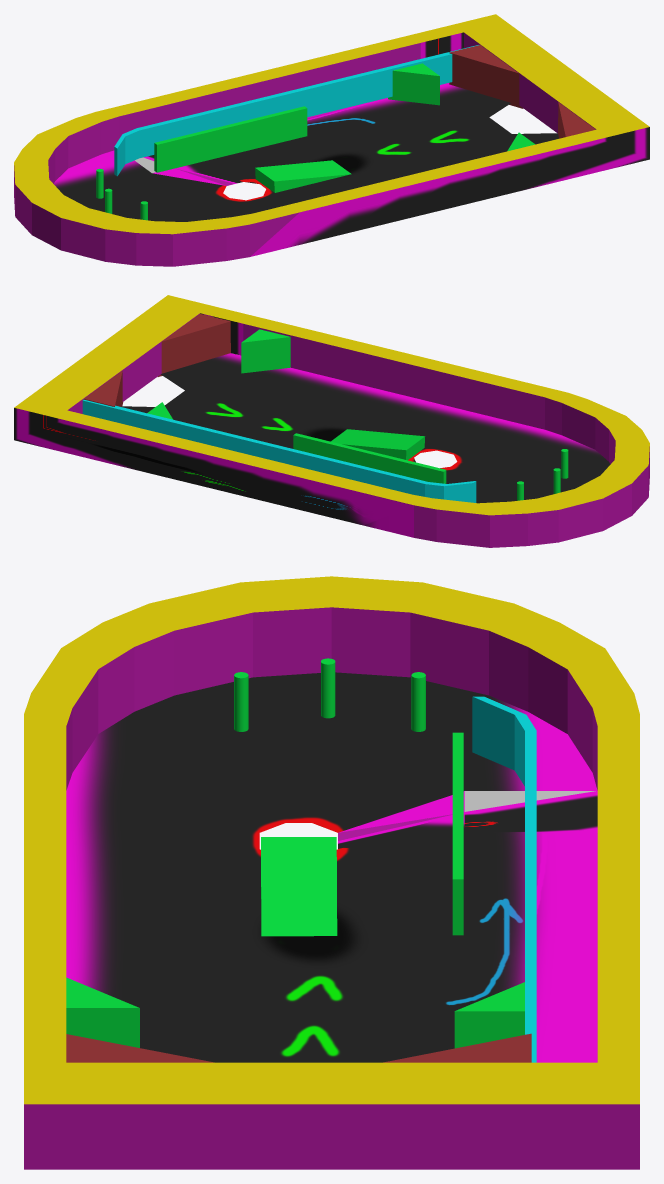
File: FlipperBoard5.fbx
The picture shows the model from 3 angles, top to bottom: view 1: azimuth 30°, elevation 25°; view 2: azimuth 150°, elevation 25°; view 3: azimuth 270°, elevation 25°; orthographic projection. The views are drawn at different scales.
Parts seen in each view (by area): view 1: Plane, Cube.002, Cube.001; view 2: Plane, Cube.002, Cube.001; view 3: Plane, Cube.002, Cube.001.
Boxes of the visible parts, bbox=[...] form: Plane: bbox=[14, 14, 649, 266]; Cube.002: bbox=[96, 63, 535, 220]; Cube.001: bbox=[449, 45, 595, 138]; Plane: bbox=[14, 295, 649, 547]; Cube.002: bbox=[147, 329, 568, 500]; Cube.001: bbox=[83, 314, 230, 406]; Plane: bbox=[24, 576, 639, 1169]; Cube.002: bbox=[66, 658, 524, 1048]; Cube.001: bbox=[66, 1033, 531, 1062].
Size of the model in its own units: 4058 by 300 by 2000.
